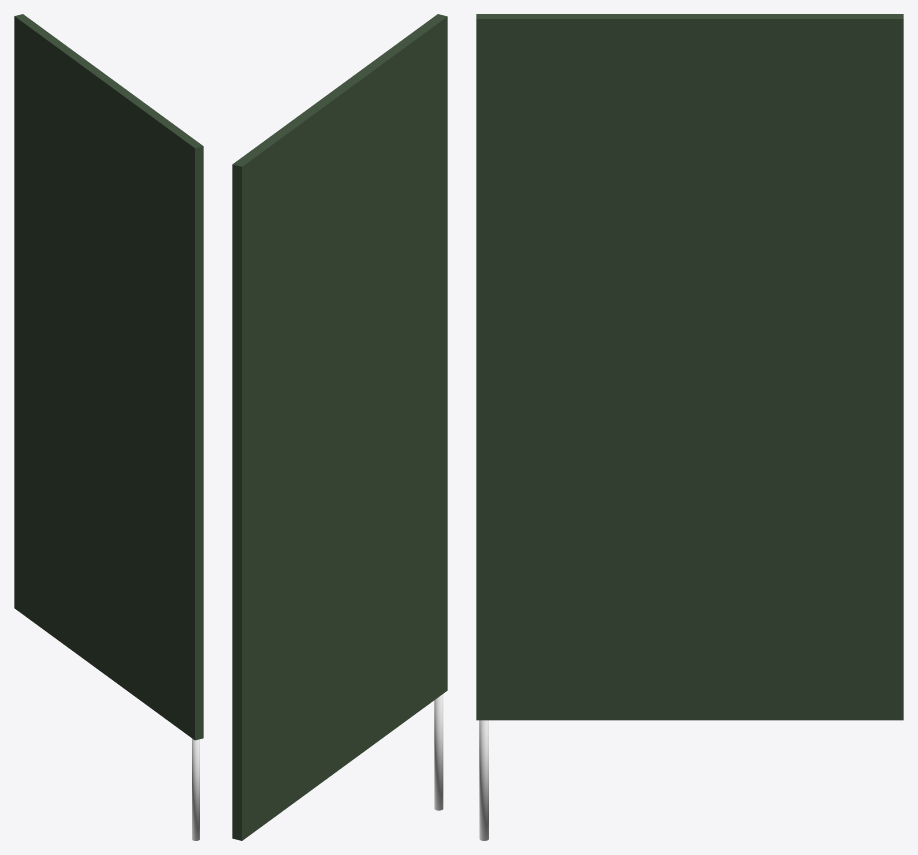
The model's file is StallDoor.glb.
The picture shows the model from 3 angles, left to right: view 1: azimuth 30°, elevation 25°; view 2: azimuth 150°, elevation 25°; view 3: azimuth 270°, elevation 25°; orthographic projection. The views are drawn at different scales.
Parts seen in each view (by area): view 1: stall_door, stall_door_post; view 2: stall_door, stall_door_post; view 3: stall_door, stall_door_post.
Boxes of the visible parts, bbox=[...] form: stall_door: bbox=[14, 14, 203, 740]; stall_door_post: bbox=[192, 738, 199, 840]; stall_door: bbox=[232, 14, 447, 840]; stall_door_post: bbox=[434, 694, 443, 810]; stall_door: bbox=[476, 14, 903, 720]; stall_door_post: bbox=[479, 720, 488, 840].
Size of the model in its own units: 0.1548 by 11.86 by 5.59.
